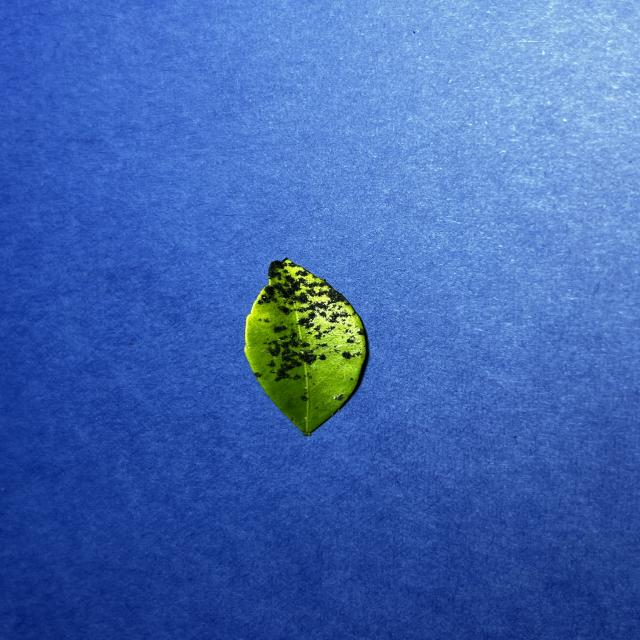sooty_mold: (245, 259, 367, 435)
